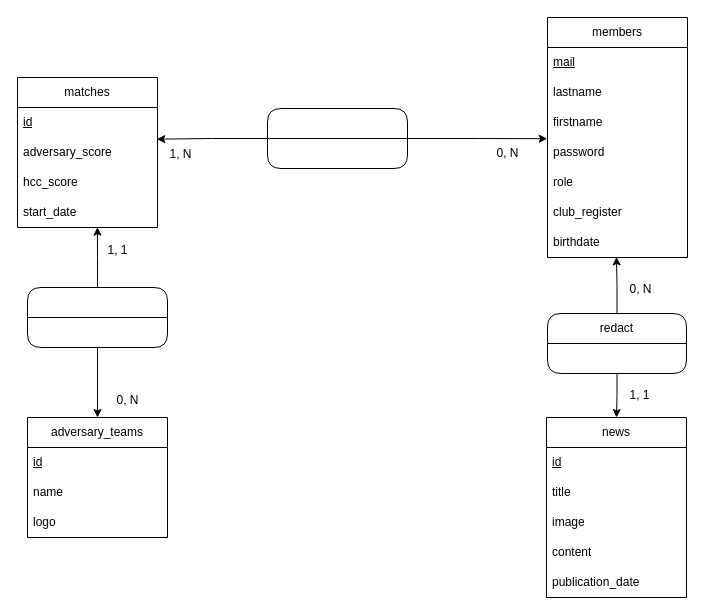
Image size: 705x615. Some labels were removed from this diagram. The centre of each missing label's shape, as x and y in pixels:
"confront" goes at point (97, 317).
"play" goes at point (337, 138).
